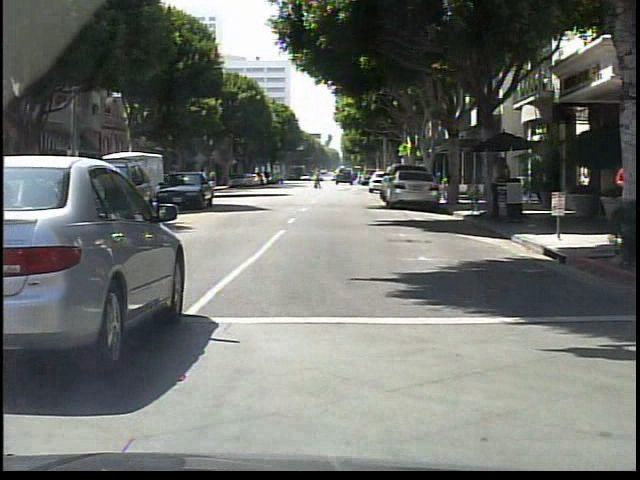person: (493, 157, 515, 225), (610, 163, 627, 236), (313, 172, 323, 192)
